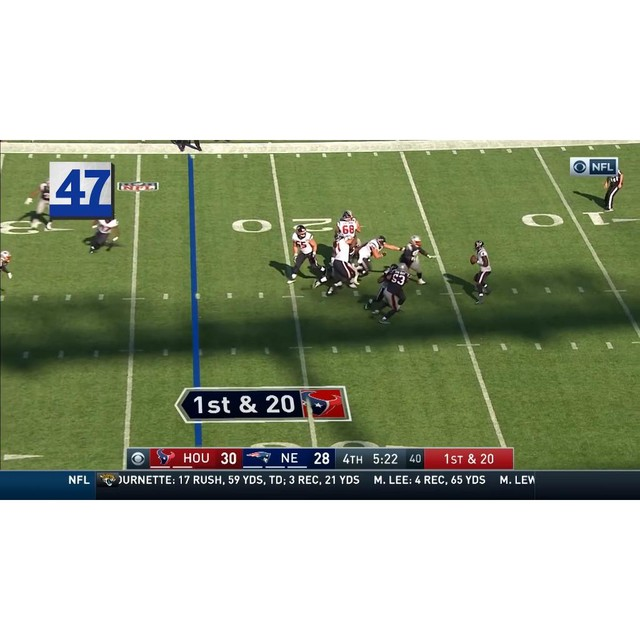american-football-player: (317, 232, 358, 295), (287, 224, 326, 284), (378, 264, 411, 325), (353, 235, 392, 281), (400, 235, 435, 285), (363, 263, 398, 311), (23, 181, 54, 231), (469, 241, 492, 303), (82, 217, 120, 254), (335, 210, 362, 256)
referee: (602, 168, 623, 212)
